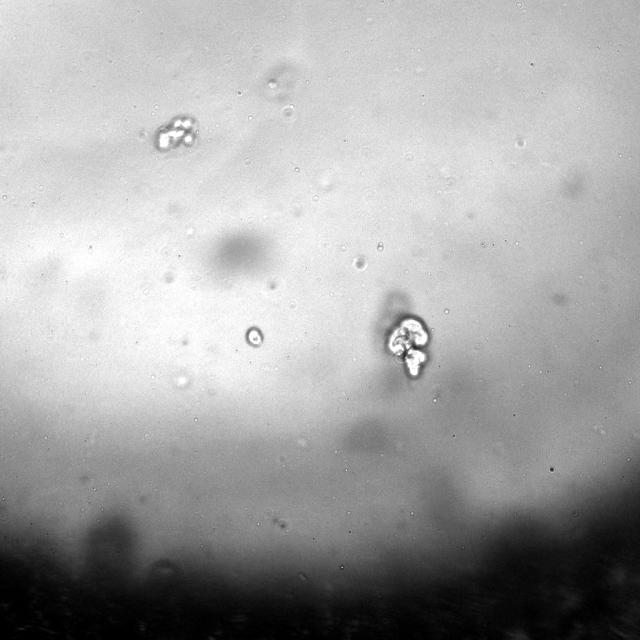organoid: (387, 315, 429, 378), (154, 116, 196, 152), (245, 327, 263, 348)
